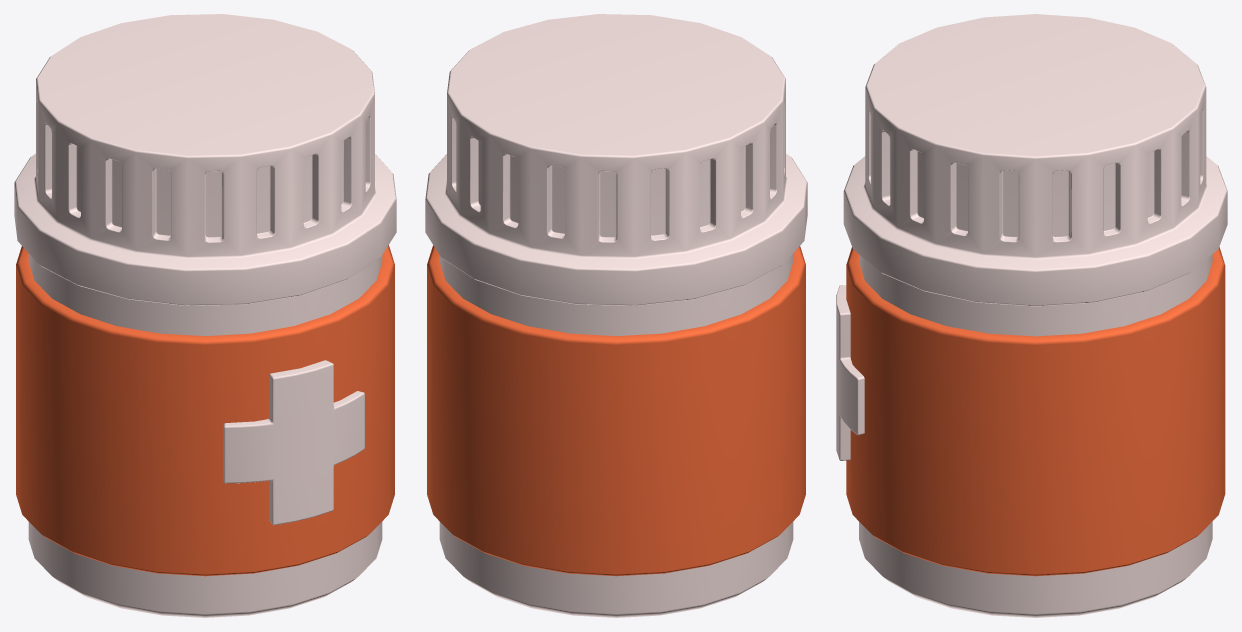
The model's file is Store_15_Bottle_of_Medicine_2.glb.
3 views of the same model, side by side, from view 1: azimuth 30°, elevation 25°; view 2: azimuth 150°, elevation 25°; view 3: azimuth 270°, elevation 25° (orthographic).
Visible parts, largest first — view 1: Store_15_Bottle_of_Medicine_2; view 2: Store_15_Bottle_of_Medicine_2; view 3: Store_15_Bottle_of_Medicine_2.
Part boxes in pixels (<box>): Store_15_Bottle_of_Medicine_2: <box>14,14,396,617</box>; Store_15_Bottle_of_Medicine_2: <box>425,14,807,617</box>; Store_15_Bottle_of_Medicine_2: <box>836,14,1227,617</box>.
Size of the model in its own units: 1.7 by 2.25 by 1.73.
Materials: 1 (1 with a texture image).
